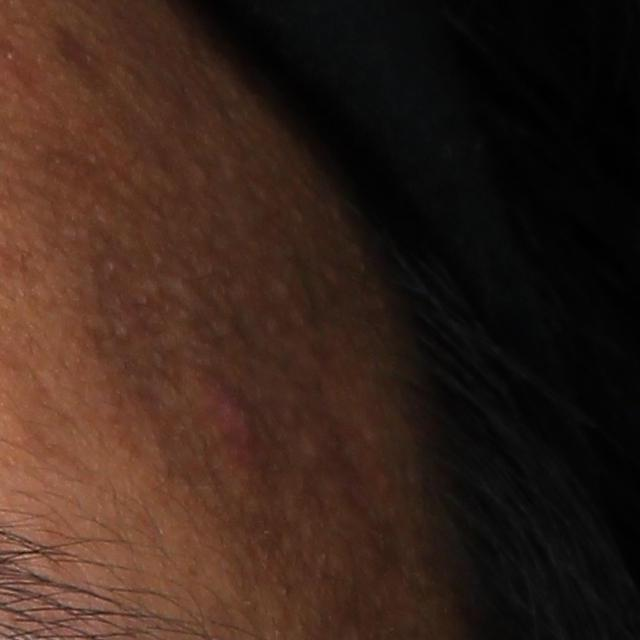papule: (207, 368, 254, 454)
